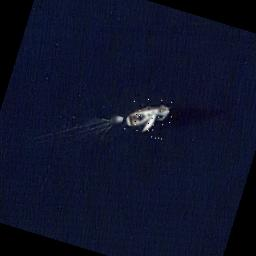boat: (123, 90, 179, 142), (108, 114, 123, 129)
